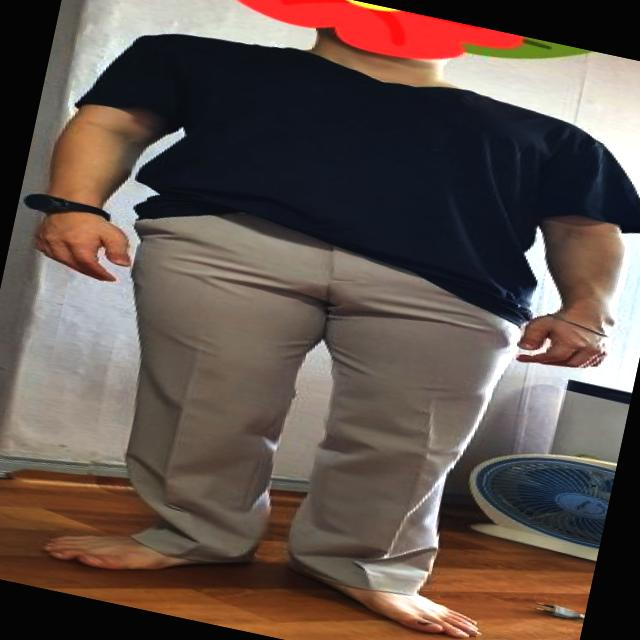shortsleeve: (48, 4, 640, 343)
slacks: (72, 200, 538, 617)
